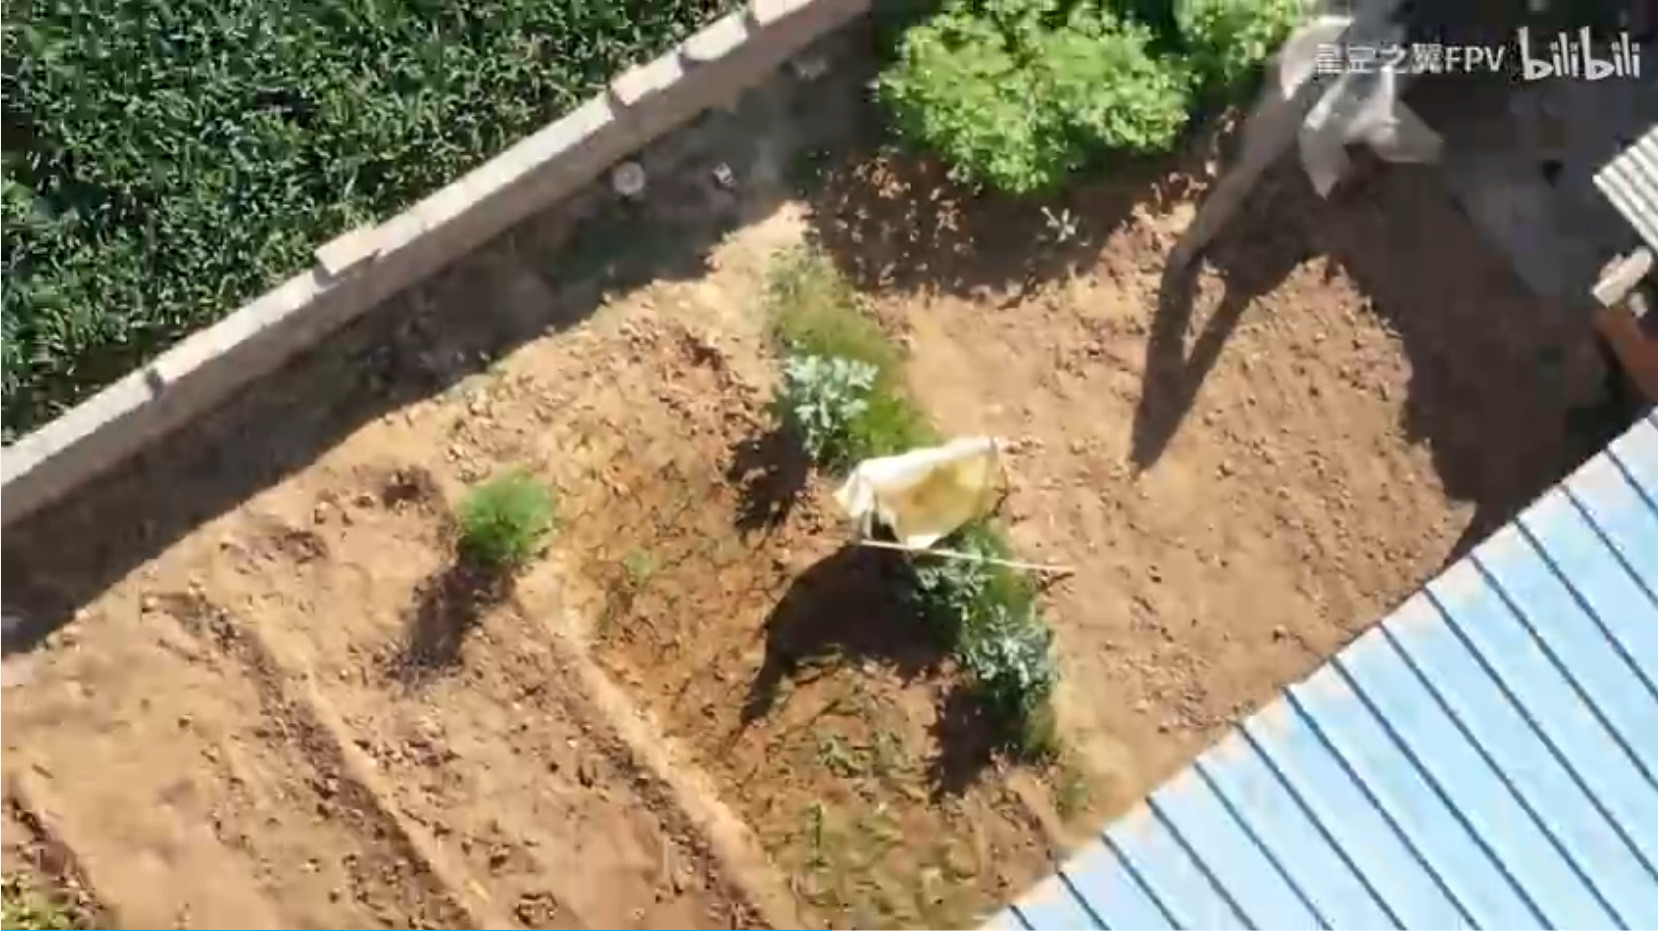Poppy: (760, 333, 879, 464), (965, 613, 1064, 725), (892, 530, 990, 626)
